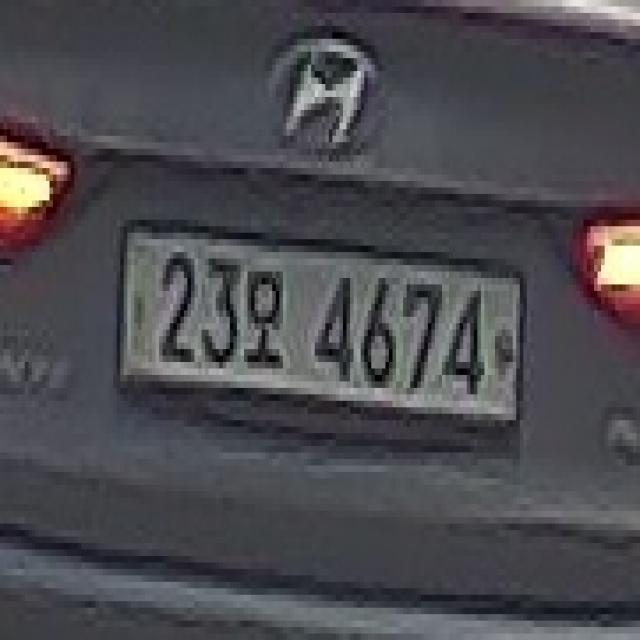2: (152, 242, 200, 372)
3: (203, 245, 244, 371)
4: (309, 268, 363, 384), (445, 279, 493, 406)
6: (359, 275, 401, 391)
7: (402, 275, 449, 399)
license_plate: (116, 226, 525, 433)
mo: (245, 255, 290, 377)
